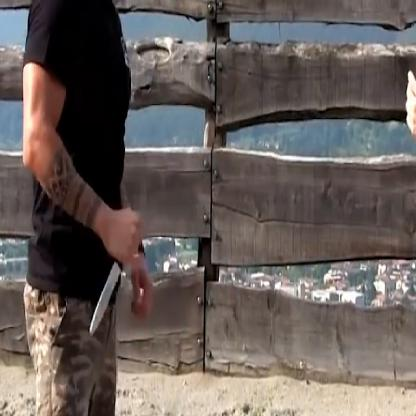knife: (83, 209, 144, 344)
